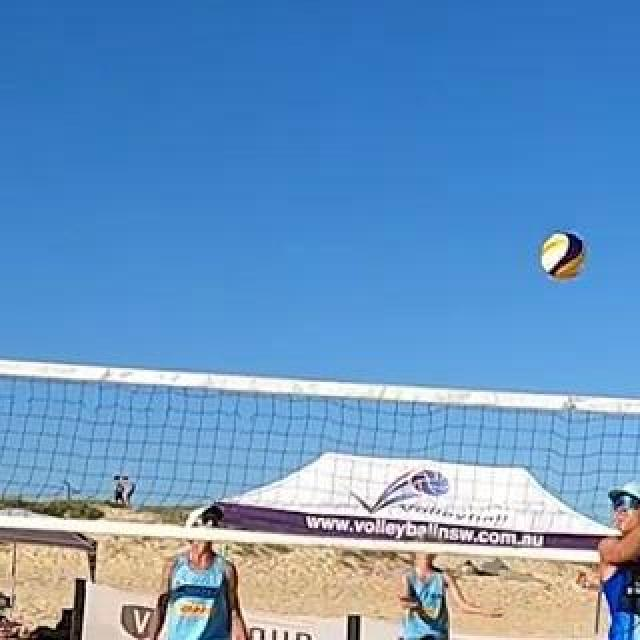volleyball: (543, 232, 585, 280)
